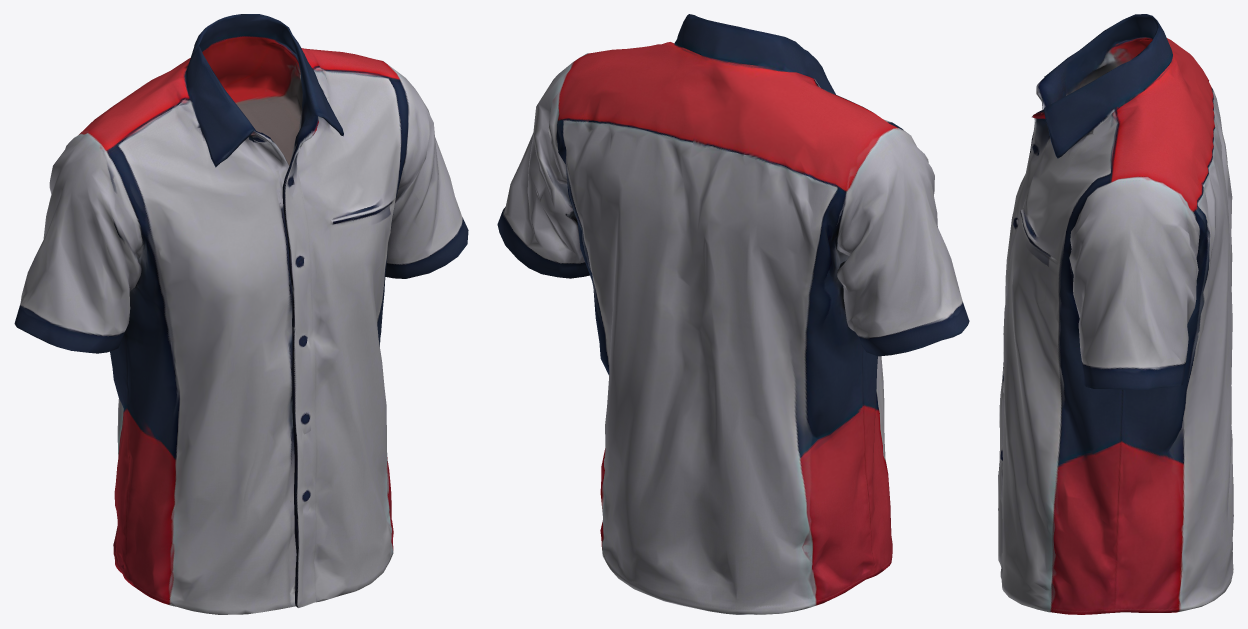
File: kk-006-mini.glb
The picture shows the model from 3 angles, left to right: view 1: azimuth 30°, elevation 25°; view 2: azimuth 150°, elevation 25°; view 3: azimuth 270°, elevation 25°; orthographic projection. The views are drawn at different scales.
Visible parts, largest first — view 1: tripo_node_e152b3ac-440b-4a1f-b7f8-f8b67dc3f727; view 2: tripo_node_e152b3ac-440b-4a1f-b7f8-f8b67dc3f727; view 3: tripo_node_e152b3ac-440b-4a1f-b7f8-f8b67dc3f727.
Boxes of the visible parts, x1,y1,x2,y2 form: tripo_node_e152b3ac-440b-4a1f-b7f8-f8b67dc3f727: (14, 14, 468, 614); tripo_node_e152b3ac-440b-4a1f-b7f8-f8b67dc3f727: (497, 14, 969, 614); tripo_node_e152b3ac-440b-4a1f-b7f8-f8b67dc3f727: (998, 14, 1233, 614).
Size of the model in its own units: 0.851 by 0.9797 by 0.386.
1 material, 1 textured.
